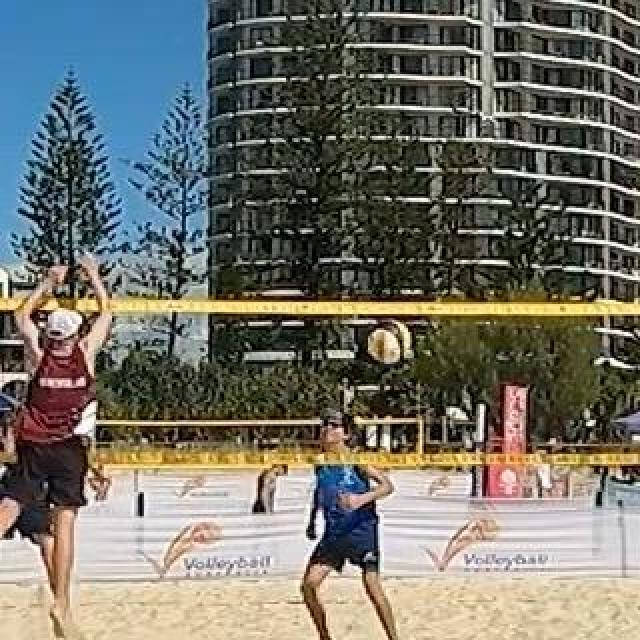volleyball: (369, 318, 409, 364)
